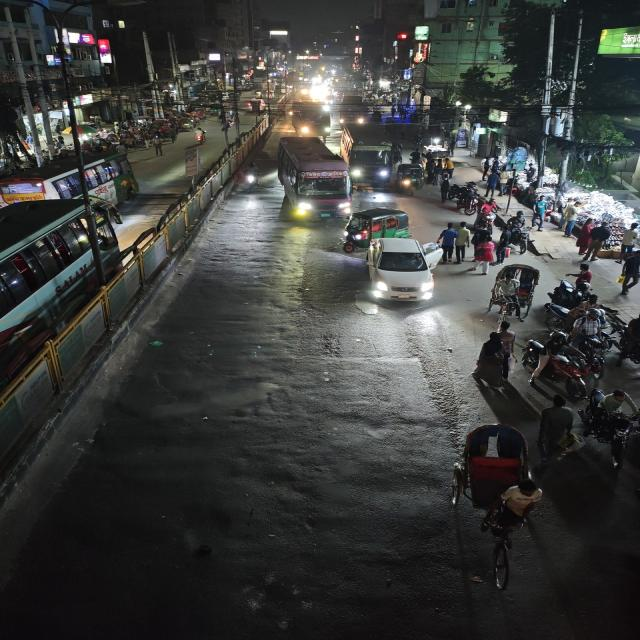bus: (1, 198, 126, 372), (0, 144, 141, 212), (276, 134, 352, 219), (341, 122, 396, 186)
car: (362, 237, 443, 303)
cng: (342, 208, 414, 249), (398, 162, 422, 195)
motorcycle: (576, 384, 638, 475), (521, 328, 592, 402), (505, 209, 532, 256), (472, 195, 498, 232), (241, 156, 265, 194), (457, 181, 480, 216)
pedestrian: (543, 392, 573, 474), (471, 332, 503, 388), (579, 216, 608, 269), (452, 220, 470, 257), (475, 236, 490, 274), (441, 220, 454, 263)
rickshaw: (448, 412, 538, 601), (488, 263, 536, 322)
